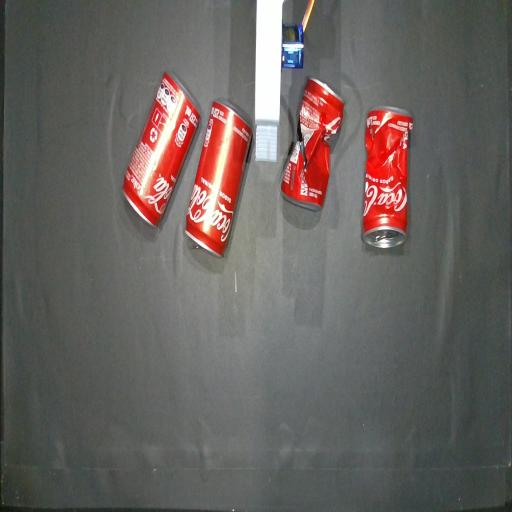lata: (123, 73, 200, 226), (185, 100, 252, 257)
lata_defectuoso: (281, 79, 344, 211), (362, 106, 413, 247)
